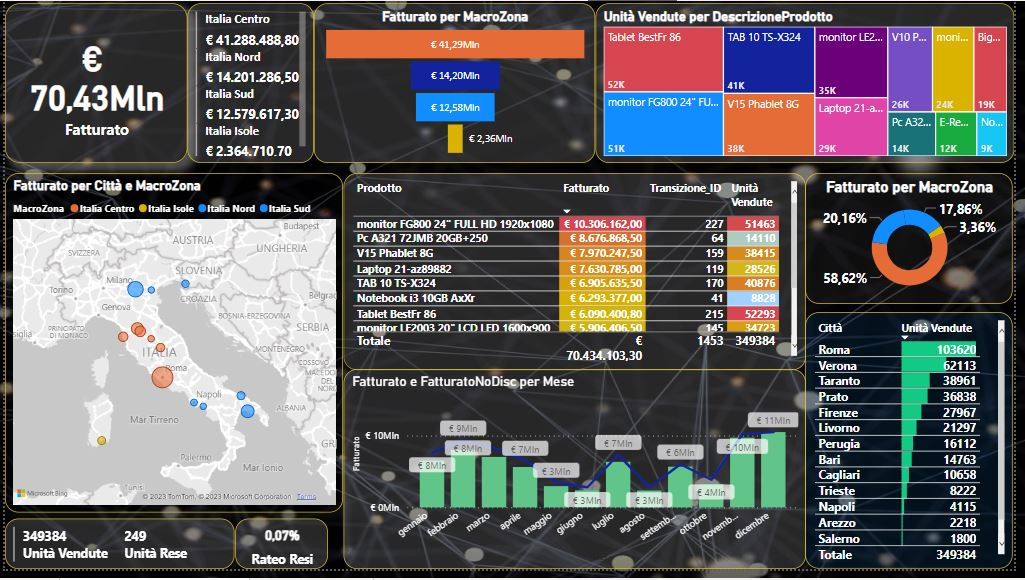

This screenshot's page, from the dashboard's own definition file:
{"tool":"powerbi","page":{"name":"Dash Sfondo Personale","canvas":[1280,720],"ordinal":1},"visuals":[{"type":"card","fields":{"Values":["Sum(Drop.Fatturato)"]},"box":[0,3.4,231.3,202.8],"z":0},{"type":"multiRowCard","fields":{"Values":["Sum(Drop.Fatturato)","ProvinceItaliane_buy.GeoLoc"]},"box":[231.3,3.4,160.9,202.8],"z":1000},{"type":"funnel","fields":{"Y":["Sum(Drop.Fatturato)"],"Category":["ProvinceItaliane_buy.GeoLoc"]},"box":[392.2,3.4,357,202.8],"z":2000},{"type":"treemap","fields":{"Group":["Prodotti_buy.DescrizioneProdotto"],"Values":["Sum(Drop.Unità Vendute)"]},"box":[749.3,3.4,531.3,202.8],"z":3000},{"type":"donutChart","title":"Fatturato per MacroZona","fields":{"Category":["ProvinceItaliane_buy.GeoLoc"],"Y":["Sum(Drop.Fatturato)"]},"box":[1015.8,217.9,263.2,165.9],"z":4000},{"type":"tableEx","fields":{"Values":["ProvinceItaliane_buy.Città","Sum(Drop.Unità Vendute)"]},"box":[1015.8,395.6,263.2,325.2],"z":5000},{"type":"tableEx","fields":{"Values":["Prodotti_buy.DescrizioneProdotto","Sum(Drop.Fatturato)","CountNonNull(Drop.Transizione_ID)","Sum(Drop.Unità Vendute)"]},"box":[429.1,217.9,586.7,249.8],"z":6000},{"type":"map","fields":{"Category":["ProvinceItaliane_buy.Città"],"Size":["Sum(Drop.Fatturato)"],"Series":["ProvinceItaliane_buy.GeoLoc"]},"box":[0,217.9,429.1,430.8],"z":7000},{"type":"multiRowCard","fields":{"Values":["Sum(Drop.Unità Vendute)","Sum(Drop resi.Unità Rese)"]},"box":[0,656.3,291.2,64.3],"z":8000},{"type":"card","fields":{"Values":["Drop.DaxRateoResi"]},"box":[291.7,657.1,117.3,63.7],"z":9000},{"type":"lineStackedColumnComboChart","fields":{"Y":["Sum(Drop.Fatturato)"],"Y2":["Sum(Drop.FatturatoNoDisc)"],"Category":["Data_buy.Nome del mese"]},"box":[429.1,467.7,586.7,253.1],"z":10000}]}

Visuals, with their boxes in screenshot pixels (x1, y1, x2, y2), scaled from the page's 1280x720 canvas onto the 1025x580 screenshot:
card - Sum(Drop.Fatturato): (0,3,185,166)
multiRowCard - Sum(Drop.Fatturato) x ProvinceItaliane_buy.GeoLoc: (185,3,314,166)
funnel - Sum(Drop.Fatturato) x ProvinceItaliane_buy.GeoLoc: (314,3,600,166)
treemap - Prodotti_buy.DescrizioneProdotto x Sum(Drop.Unità Vendute): (600,3,1024,166)
"Fatturato per MacroZona" donutChart: (813,176,1024,309)
tableEx - ProvinceItaliane_buy.Città x Sum(Drop.Unità Vendute): (813,319,1024,579)
tableEx - Prodotti_buy.DescrizioneProdotto x Sum(Drop.Fatturato): (344,176,813,377)
map - ProvinceItaliane_buy.Città x Sum(Drop.Fatturato): (0,176,344,523)
multiRowCard - Sum(Drop.Unità Vendute) x Sum(Drop resi.Unità Rese): (0,529,233,579)
card - Drop.DaxRateoResi: (234,529,328,579)
lineStackedColumnComboChart - Sum(Drop.Fatturato) x Sum(Drop.FatturatoNoDisc): (344,377,813,579)
